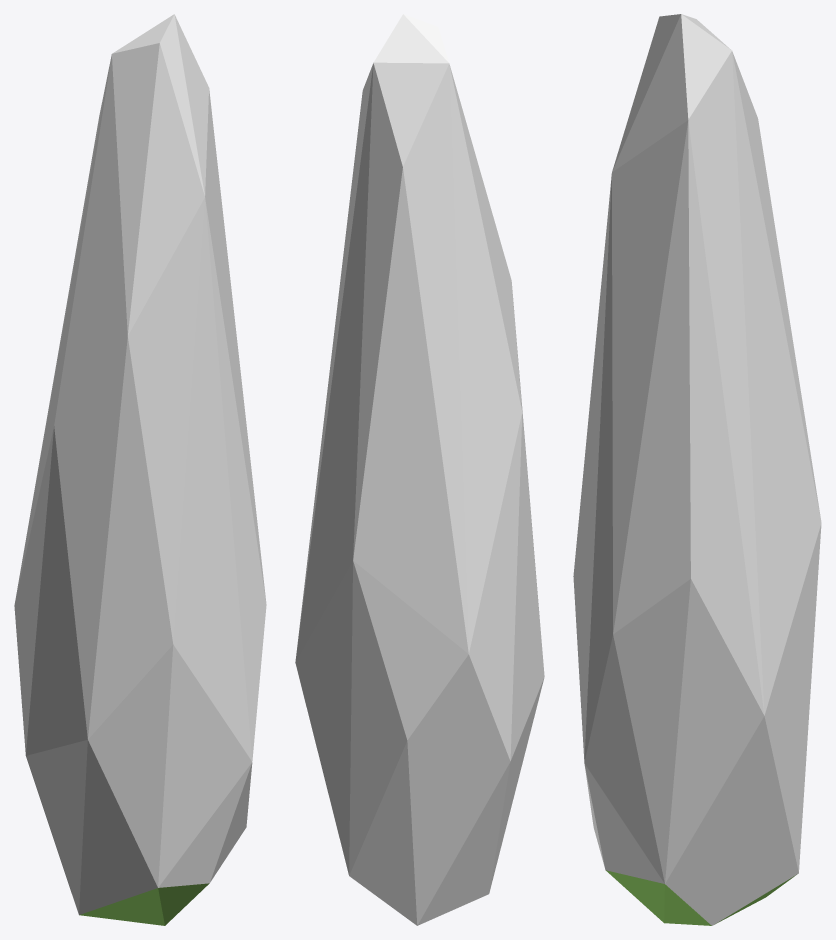
File: Thuja_BushTree_m_Snow_04.fbx
The picture shows the model from 3 angles, left to right: view 1: azimuth 30°, elevation 25°; view 2: azimuth 150°, elevation 25°; view 3: azimuth 270°, elevation 25°; orthographic projection. The views are drawn at different scales.
Visible parts, largest first — view 1: Thuja_BushTree_m_Snow_04; view 2: Thuja_BushTree_m_Snow_04; view 3: Thuja_BushTree_m_Snow_04.
Boxes of the visible parts, x1,y1,x2,y2 form: Thuja_BushTree_m_Snow_04: (14,14,266,925); Thuja_BushTree_m_Snow_04: (295,14,544,925); Thuja_BushTree_m_Snow_04: (573,14,821,925).
Size of the model in its own units: 105 by 434 by 106.
